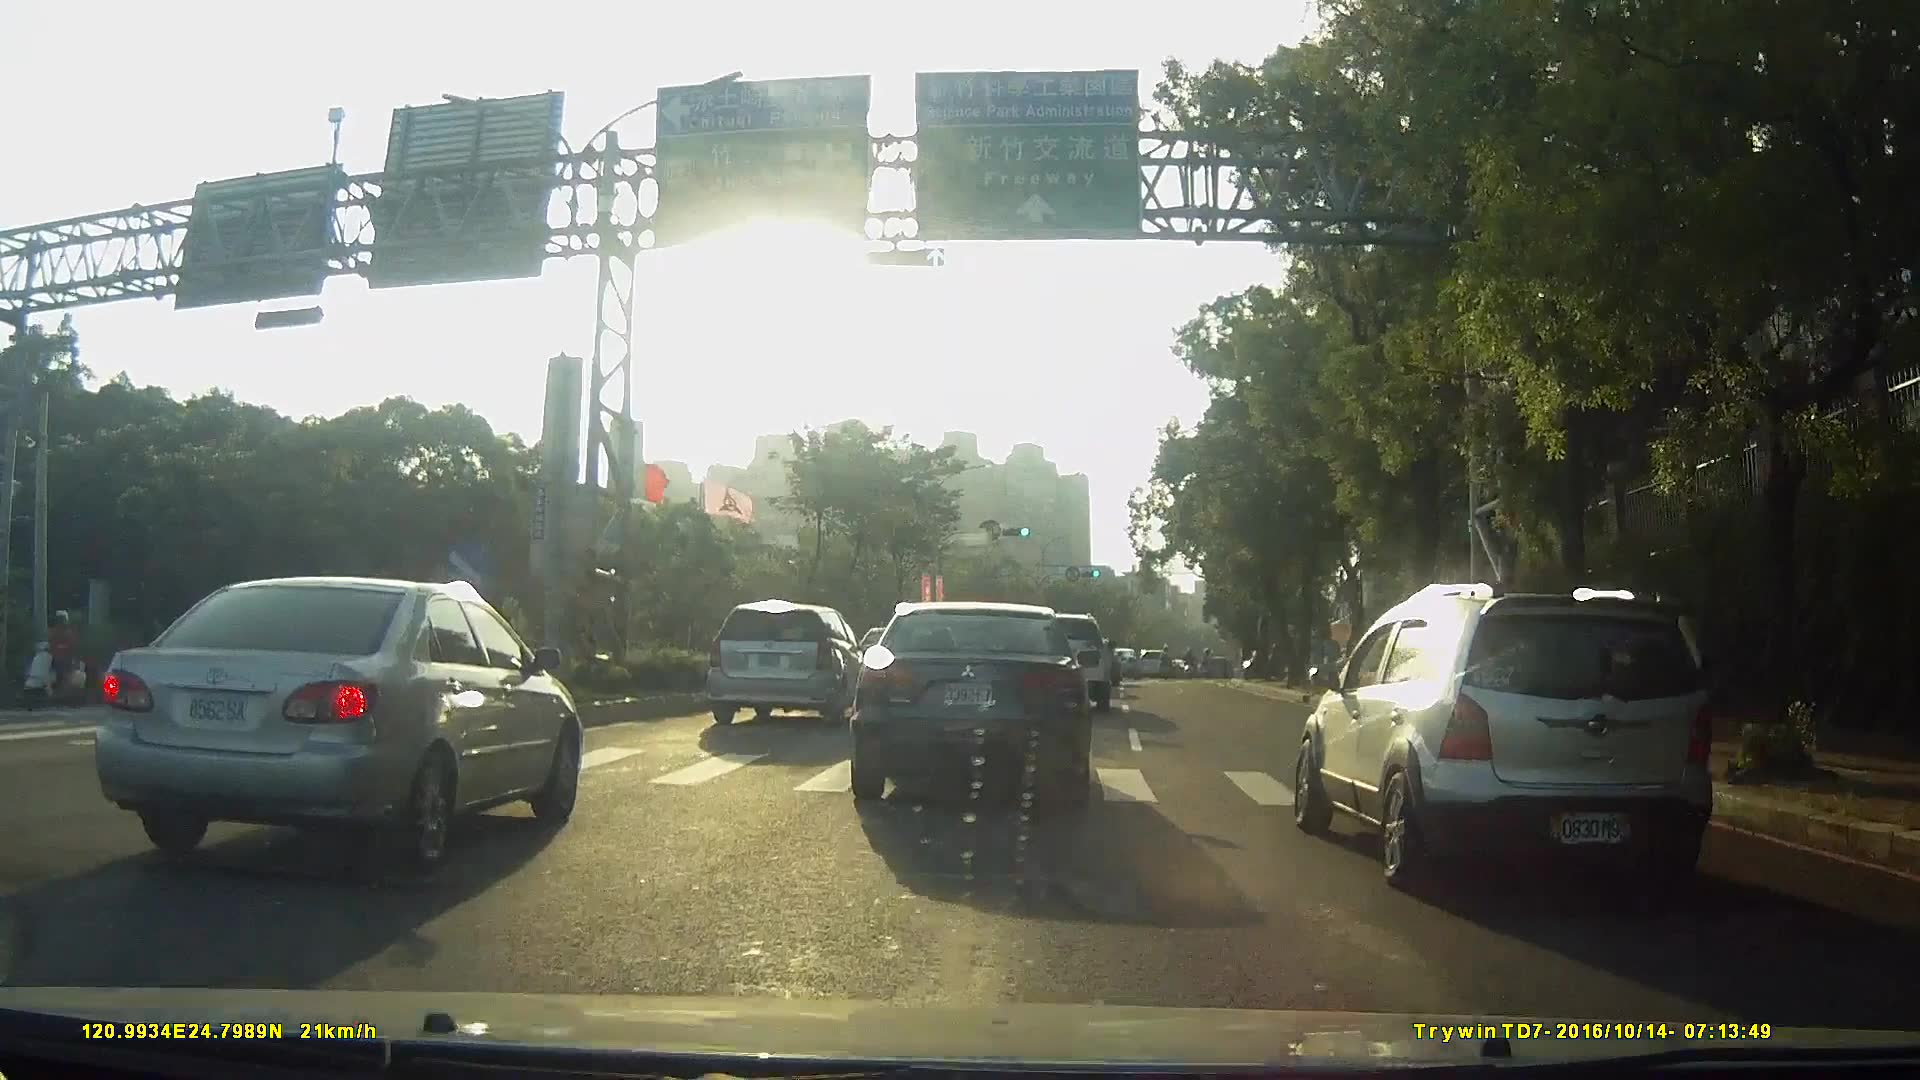pedestrian: (1624, 589, 1704, 785)
rider: (17, 610, 80, 709)
vehicle: (71, 571, 599, 878), (1279, 583, 1740, 914), (850, 594, 1115, 810), (695, 604, 866, 733), (1103, 648, 1136, 678), (1130, 651, 1163, 680)
